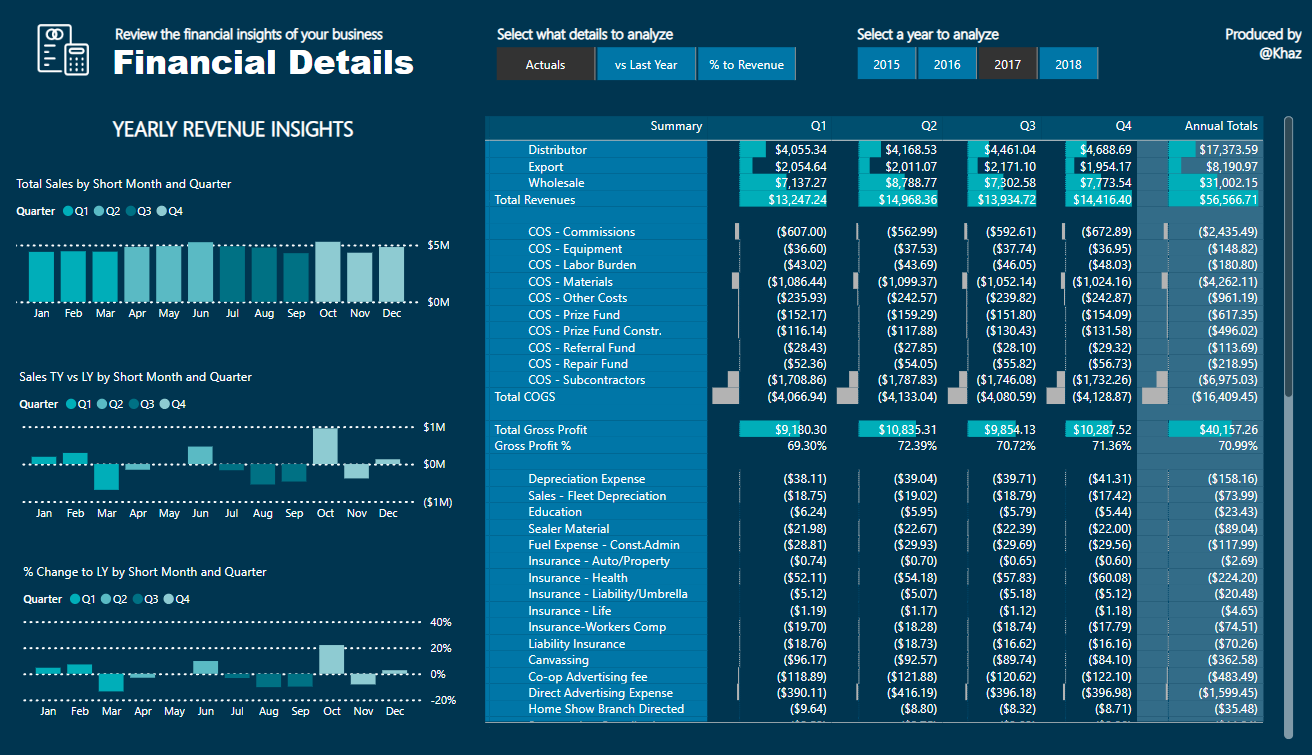

What the dashboard file says about the page in this screenshot:
{"tool":"powerbi","page":{"name":"Financial Details","canvas":[1280,720],"ordinal":2},"visuals":[{"type":"image","box":[18.3,1.1,88.2,60.2],"z":0},{"type":"textbox","box":[829.3,0,202.2,34.4],"z":1000},{"type":"textbox","box":[107.6,0,291.5,34.4],"z":2000},{"type":"textbox","box":[1139,0,133.3,51.6],"z":3000},{"type":"textbox","box":[105.3,14.1,338.7,61.9],"z":4000},{"type":"slicer","fields":{"Values":["Dates.Year"]},"box":[808.9,21.5,284,45.2],"z":6000},{"type":"tableEx","fields":{"Values":["Income Statement Template.Row Index","Income Statement Template.Summary","Income Statement Analysis.Q1","Income Statement Analysis.Q2","Income Statement Analysis.Q3","Income Statement Analysis.Q4","Income Statement Analysis.Annual Totals"]},"box":[466.8,90.1,796.9,615.6],"z":7000},{"type":"slicer","fields":{"Values":["Income Statement Visual.Table Detail"]},"box":[458.4,21.7,341.5,45.5],"z":8000},{"type":"textbox","box":[479.1,0,202.8,34.1],"z":9000},{"type":"columnChart","fields":{"Category":["Dates.Short Month"],"Y":["Key Measures.Total Sales"],"Series":["Dates.Quarter"]},"box":[11.9,153.1,432.1,152],"z":10000},{"type":"columnChart","fields":{"Category":["Dates.Short Month"],"Series":["Dates.Quarter"],"Y":["Time Comparison.Sales TY vs LY"]},"box":[14.1,340.9,432.1,158.5],"z":11000},{"type":"columnChart","fields":{"Category":["Dates.Short Month"],"Series":["Dates.Quarter"],"Y":["Time Comparison.% Change to LY"]},"box":[18.5,529.8,432.1,161.8],"z":12000},{"type":"textbox","box":[95.5,87.9,264.9,42.3],"z":13000}]}

Visuals, with their boxes in screenshot pixels (x1, y1, x2, y2), scaled from the page's 1280x720 canvas onto the 1312x755 screenshot:
image: (left=19, top=1, right=109, bottom=64)
textbox: (left=850, top=0, right=1057, bottom=36)
textbox: (left=110, top=0, right=409, bottom=36)
textbox: (left=1167, top=0, right=1304, bottom=54)
textbox: (left=108, top=15, right=455, bottom=80)
slicer - Dates.Year: (left=829, top=23, right=1120, bottom=70)
tableEx - Income Statement Template.Row Index x Income Statement Template.Summary: (left=478, top=94, right=1295, bottom=740)
slicer - Income Statement Visual.Table Detail: (left=470, top=23, right=820, bottom=70)
textbox: (left=491, top=0, right=699, bottom=36)
columnChart - Dates.Short Month x Key Measures.Total Sales: (left=12, top=161, right=455, bottom=320)
columnChart - Dates.Short Month x Dates.Quarter: (left=14, top=357, right=457, bottom=524)
columnChart - Dates.Short Month x Dates.Quarter: (left=19, top=556, right=462, bottom=725)
textbox: (left=98, top=92, right=369, bottom=137)
